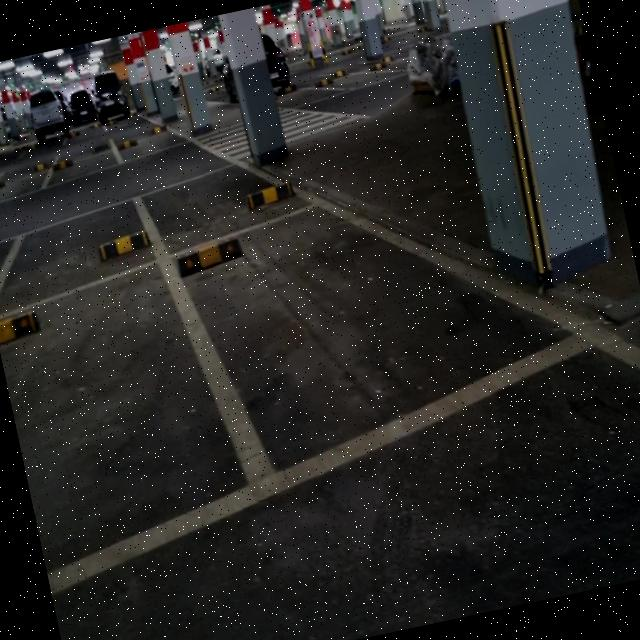empty: (149, 146, 591, 514), (0, 245, 291, 600)
